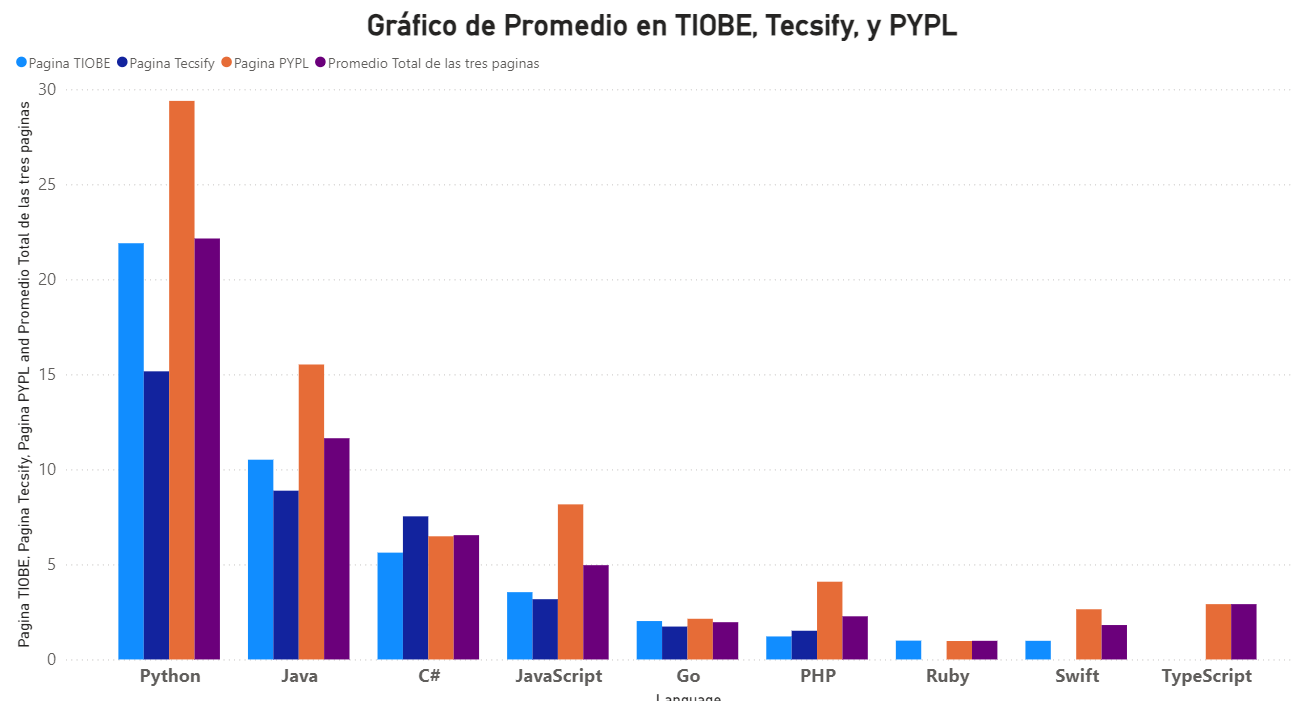

This screenshot's page, from the dashboard's own definition file:
{"tool":"powerbi","page":{"name":"Promedios","canvas":[1280,720],"ordinal":0},"visuals":[{"type":"clusteredColumnChart","title":"Gráfico de Promedio en TIOBE, Tecsify, y PYPL","fields":{"Category":["Promedio.Language"],"Y":["Sum(Promedio.TIOBE)","Sum(Promedio.Tecsify)","Sum(Promedio.PYPL)","Sum(Promedio.Average)"]},"box":[21.9,24.8,1243.7,676.7],"z":0}]}

Visuals, with their boxes in screenshot pixels (x1, y1, x2, y2):
"Gráfico de Promedio en TIOBE, Tecsify, y PYPL" clusteredColumnChart: l=165, t=30, r=1290, b=658
